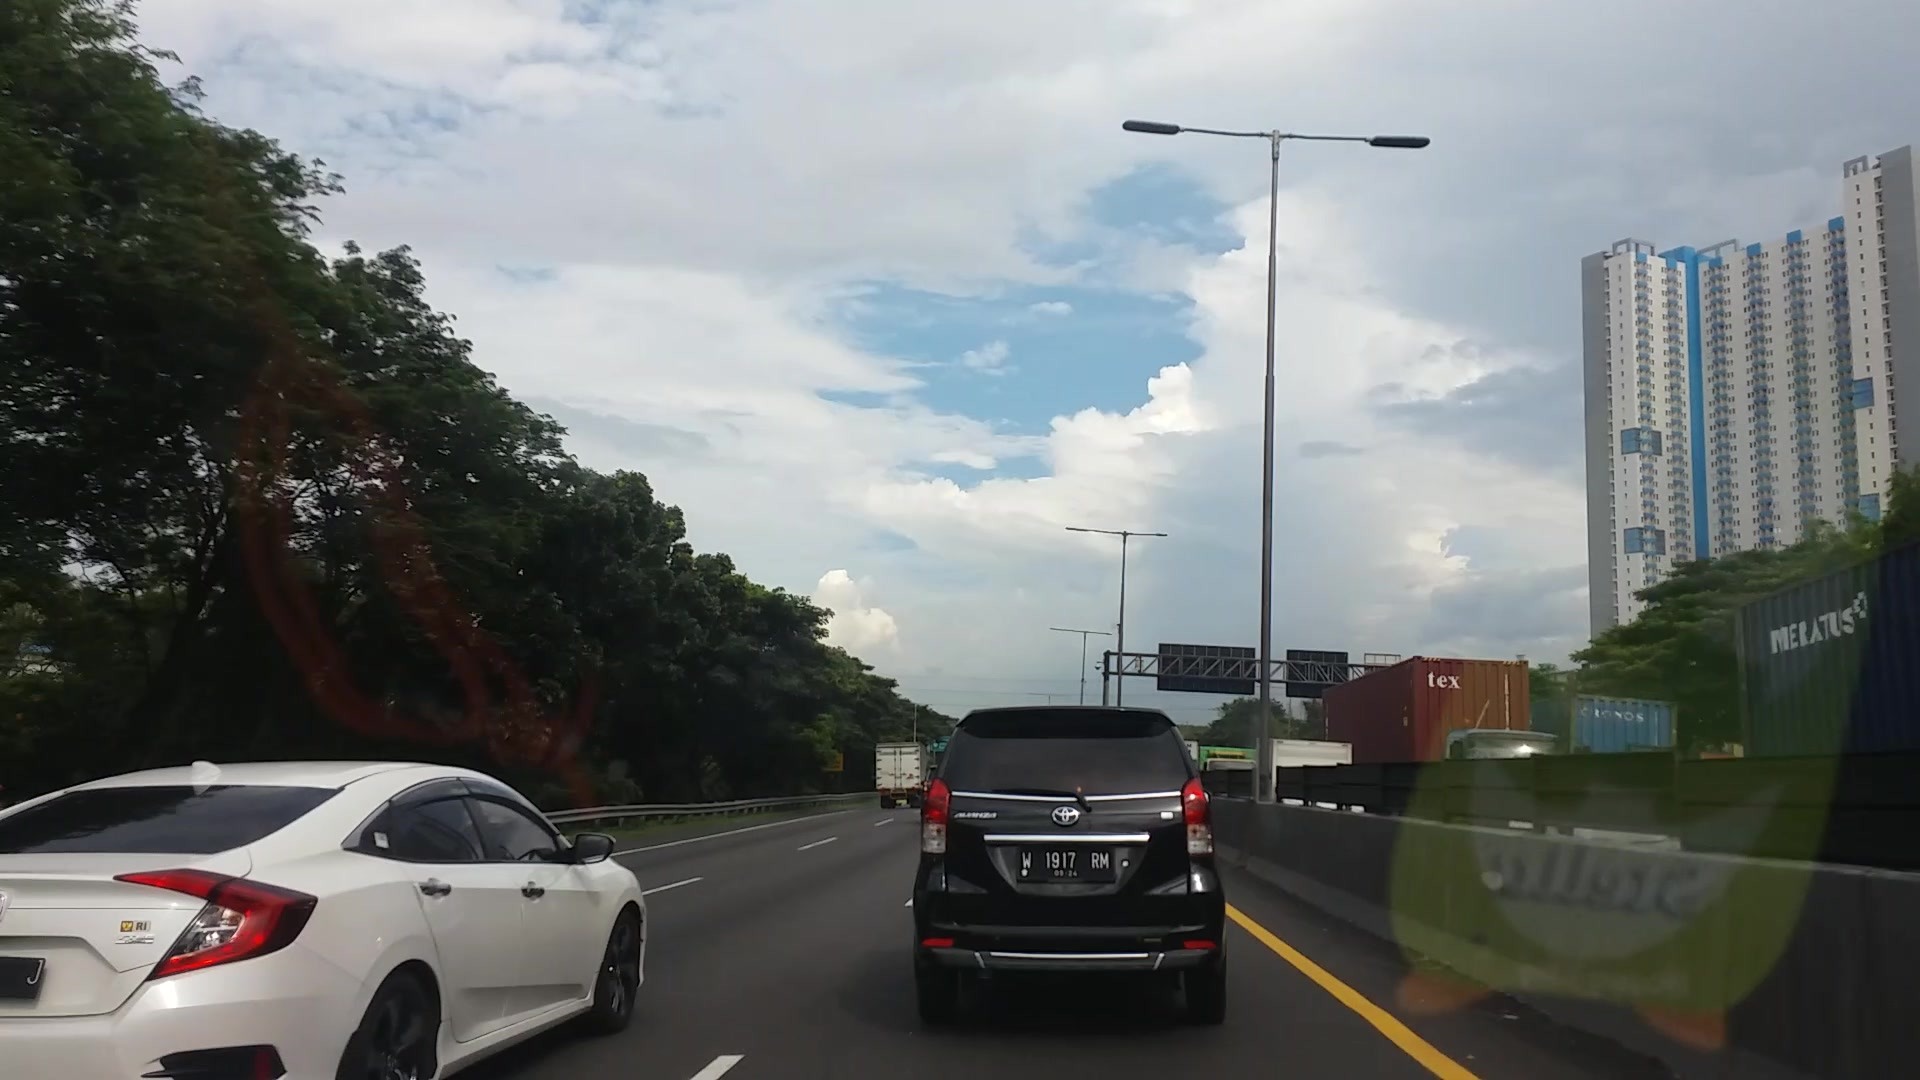plate_positive: (1017, 848, 1113, 880)
